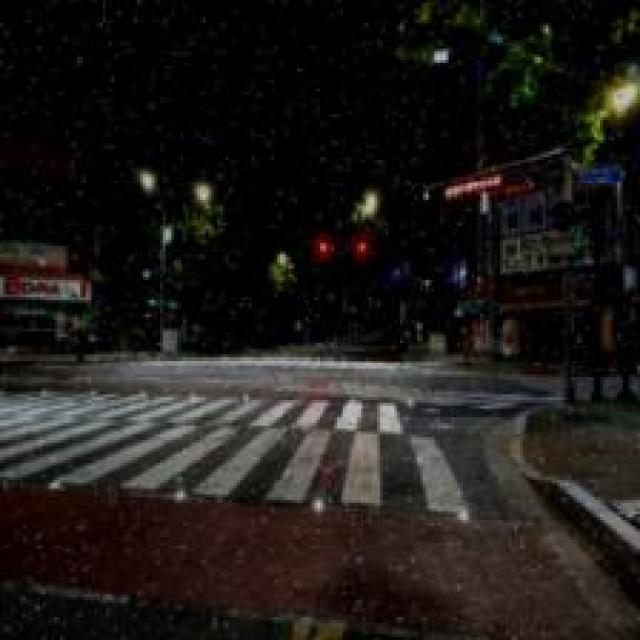crosswalk: (6, 388, 522, 520)
